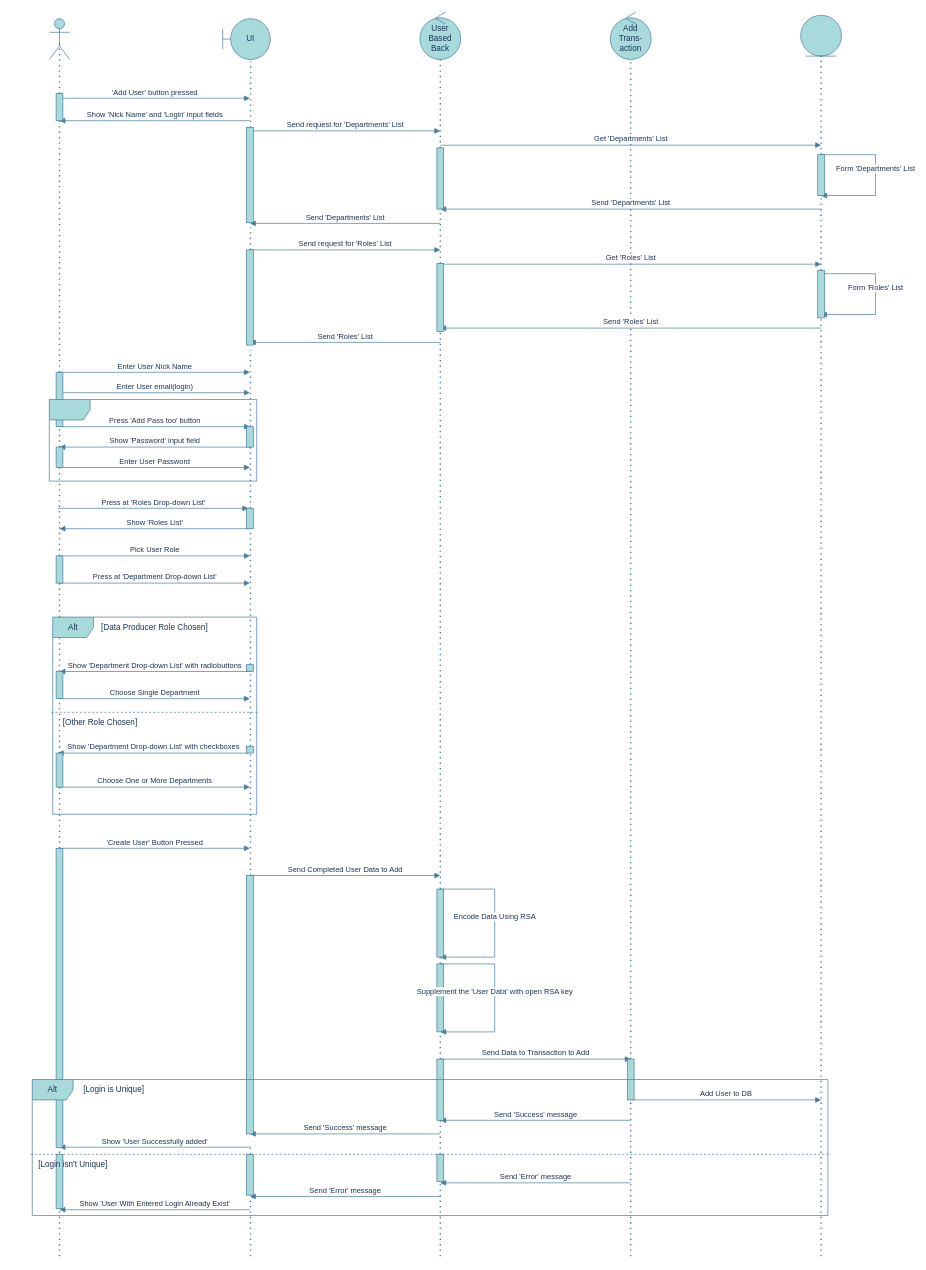
This 926x1270 diagram has some shape labels left out. Here are the shapes that lost their labels. From the top down, the centre of each, then its label:
[59,39]: Admin
[821,35]: Logins DB
[153,440]: Opt
